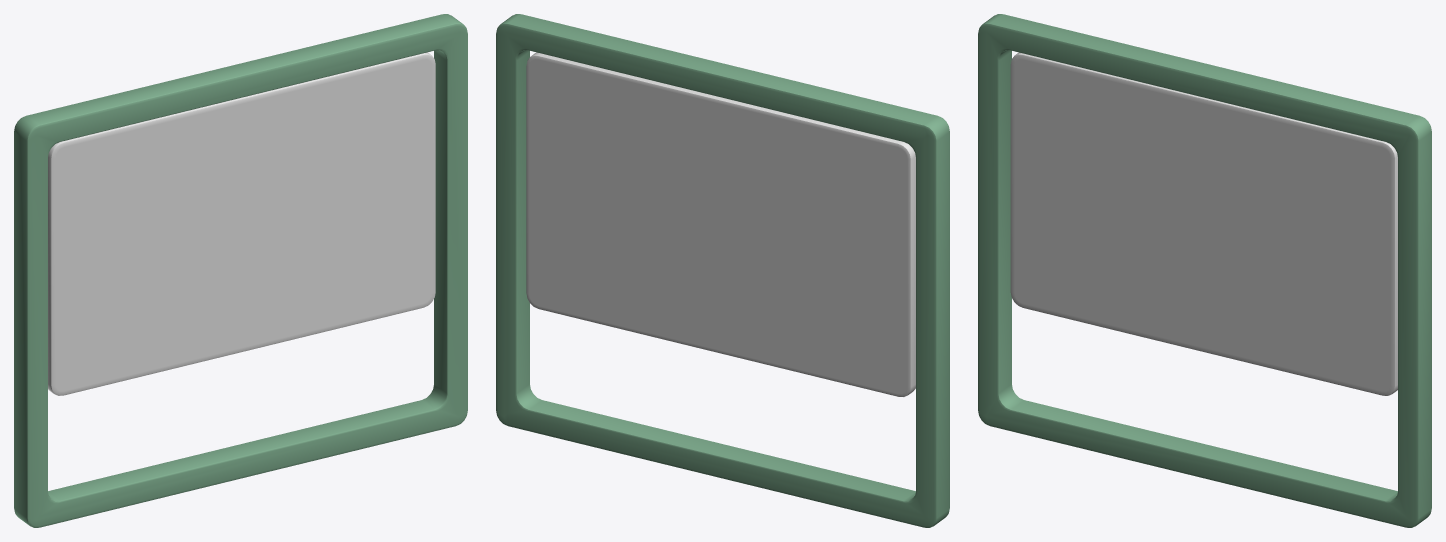
The model's file is board.fbx.
3 views of the same model, side by side, from view 1: azimuth 30°, elevation 25°; view 2: azimuth 150°, elevation 25°; view 3: azimuth 330°, elevation 25° (orthographic).
Visible parts, largest first — view 1: Cube; view 2: Cube; view 3: Cube.
Part boxes in pixels (x1=…): Cube: x1=14, y1=14, x2=467, y2=527; Cube: x1=496, y1=14, x2=949, y2=527; Cube: x1=978, y1=14, x2=1431, y2=527.
Bounding box in the file's own units: 229 × 200 × 12.6.
